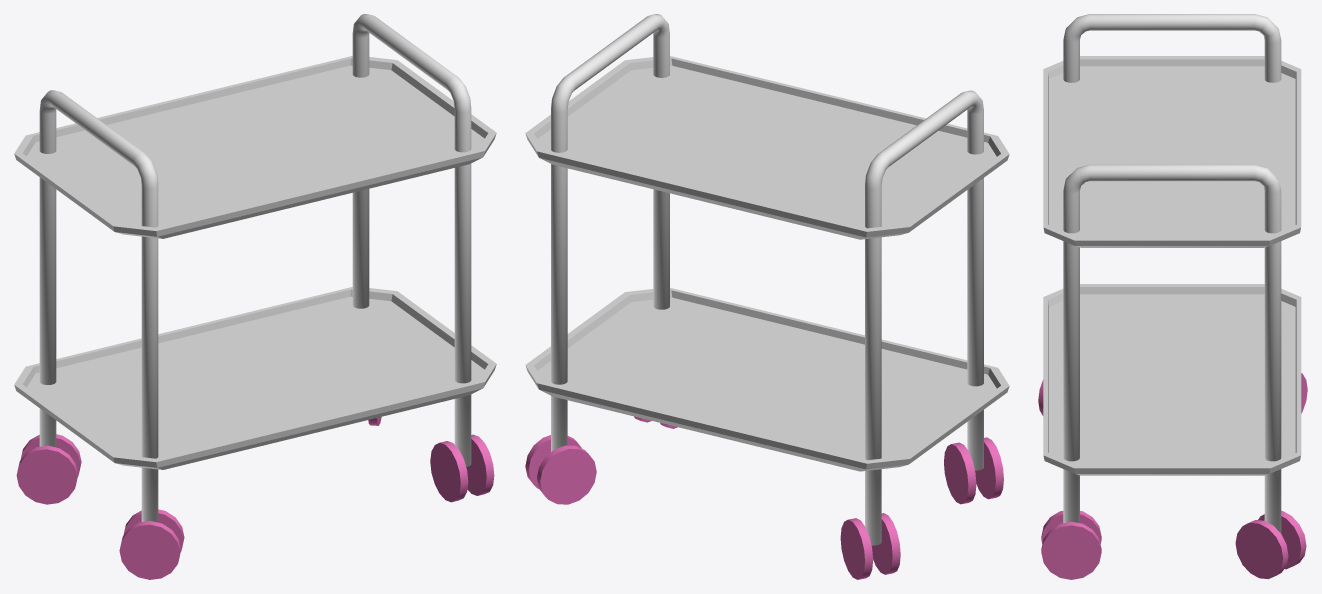
The model's file is Medical_Tray.fbx.
3 renders of one model, left to right at view 1: azimuth 30°, elevation 25°; view 2: azimuth 150°, elevation 25°; view 3: azimuth 270°, elevation 25°, orthographic.
Parts seen in each view (by area): view 1: Medical Tray; view 2: Medical Tray; view 3: Medical Tray.
Part boxes in pixels (<box>): Medical Tray: <box>14,14,496,579</box>; Medical Tray: <box>525,14,1009,579</box>; Medical Tray: <box>1038,14,1307,579</box>.
Bounding box in the file's own units: 211 × 342 × 352.
